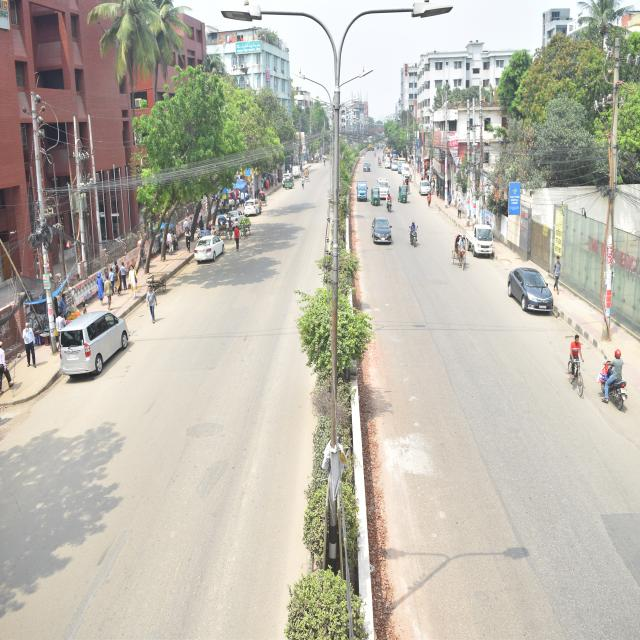car: (59, 308, 129, 374), (505, 263, 558, 318), (193, 232, 228, 266), (370, 216, 394, 248), (243, 198, 262, 217), (228, 210, 244, 226)
microbus: (377, 177, 389, 200)
motorbike: (600, 364, 628, 407), (408, 221, 420, 248), (386, 194, 393, 212)
pickup-van: (355, 181, 370, 204)
